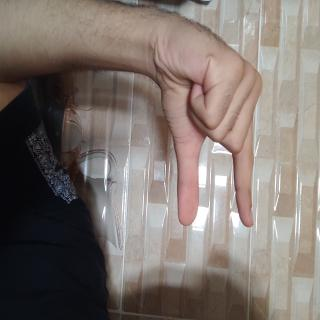DELL: (0, 69, 177, 231)
